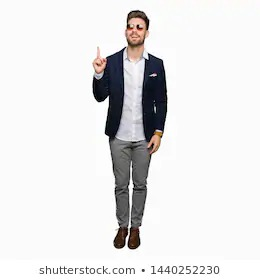F_M_suit jacket: (90, 43, 170, 143)
